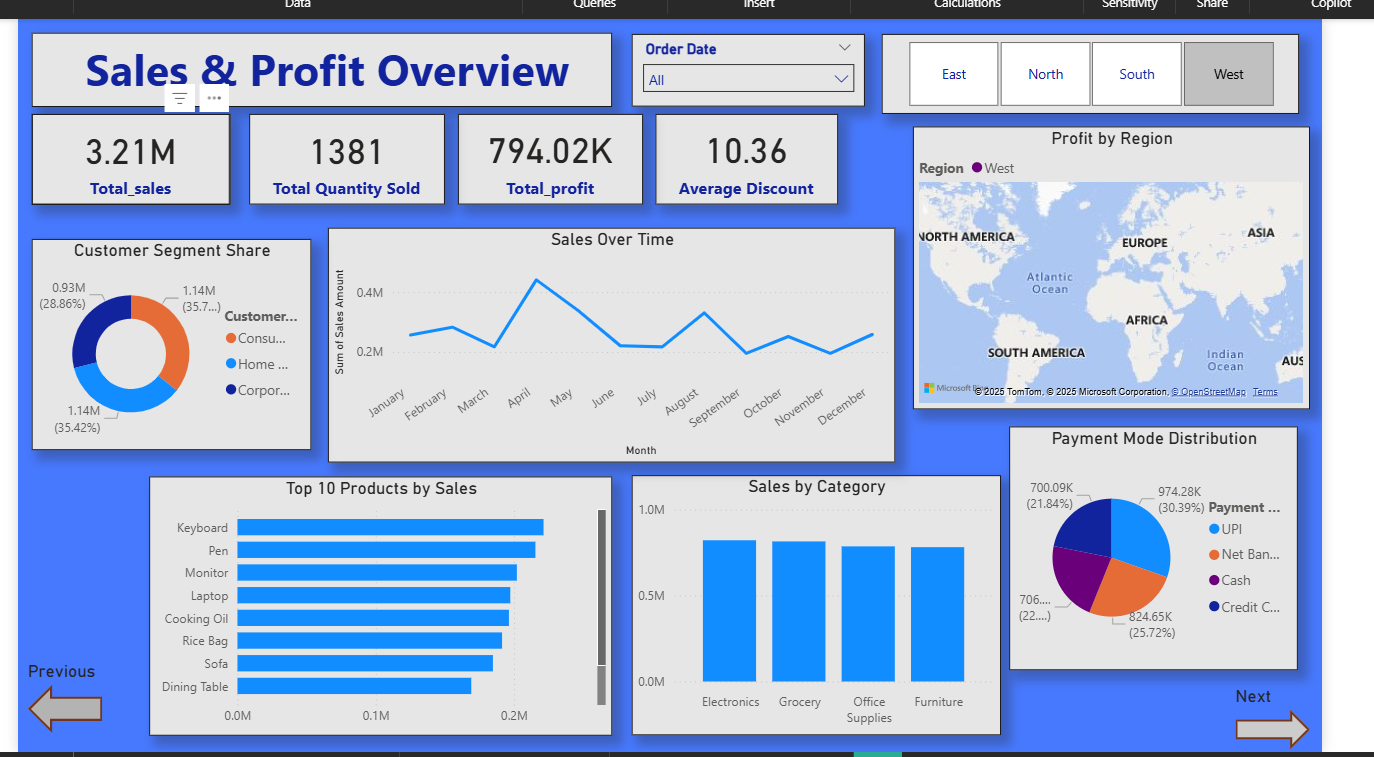

What the dashboard file says about the page in this screenshot:
{"tool":"powerbi","page":{"name":"Sales & profit Overview","canvas":[1280,720],"ordinal":1},"visuals":[{"type":"textbox","box":[13.7,13.7,569.5,72.7],"z":0},{"type":"slicer","fields":{"Values":["Superstore_Management_System.Order Date"]},"box":[602.8,14.3,229.1,71.6],"z":1000},{"type":"slicer","title":"profit by re","fields":{"Values":["Superstore_Management_System.Region"]},"box":[847.6,14.3,409.5,78.7],"z":2000},{"type":"card","fields":{"Values":["Superstore_Management_System.Total_sales"]},"box":[13.7,93.3,194.9,89.2],"z":3000},{"type":"card","fields":{"Values":["Superstore_Management_System.Average Discount"]},"box":[625.7,93.1,179,88.8],"z":4000},{"type":"card","fields":{"Values":["Superstore_Management_System.Total_profit"]},"box":[432.4,93.1,181.8,88.8],"z":5000},{"type":"card","fields":{"Values":["Superstore_Management_System.Total Quantity Sold"]},"box":[226.4,93.3,192.1,89.2],"z":6000},{"type":"clusteredColumnChart","title":" Sales by Category","fields":{"Category":["Superstore_Management_System.Category"],"Y":["Sum(Superstore_Management_System.Sales Amount)"]},"box":[602.8,448.1,362.2,254.9],"z":7000},{"type":"filledMap","title":"Profit by Region","fields":{"Series":["Superstore_Management_System.Region"]},"box":[879.1,106,389.4,277.8],"z":8000},{"type":"lineChart","title":"Sales Over Time","fields":{"Y":["Sum(Superstore_Management_System.Sales Amount)"],"Category":["Superstore_Management_System.Ship Date.Variation.Date Hierarchy.Month"]},"box":[304.6,204.5,557.1,230.5],"z":9000},{"type":"clusteredBarChart","title":"Top 10 Products by Sales","fields":{"Category":["Superstore_Management_System.Product Name"],"Y":["Sum(Superstore_Management_System.Sales Amount)"]},"box":[129.4,448.8,454.3,254.7],"z":10000},{"type":"donutChart","title":"Customer Segment Share","fields":{"Category":["Superstore_Management_System.Customer Segment"],"Y":["Sum(Superstore_Management_System.Sales Amount)"]},"box":[13.7,215.4,274.4,207.2],"z":11000},{"type":"pieChart","title":" Payment Mode Distribution","fields":{"Category":["Superstore_Management_System.Payment Mode"],"Y":["Sum(Superstore_Management_System.Sales Amount)"]},"box":[973.6,399.5,283.5,239.1],"z":12000},{"type":"shape","title":"Next","box":[1195.5,654.3,73,63],"z":13000},{"type":"shape","title":"Previous","box":[9.6,629.1,73,71.6],"z":14000}]}

Visuals, with their boxes in screenshot pixels (x1, y1, x2, y2):
textbox: 14:29:606:104
slicer - Superstore_Management_System.Order Date: 626:29:864:104
"profit by re" slicer: 881:29:1306:111
card - Superstore_Management_System.Total_sales: 14:111:217:204
card - Superstore_Management_System.Average Discount: 650:111:836:203
card - Superstore_Management_System.Total_profit: 449:111:638:203
card - Superstore_Management_System.Total Quantity Sold: 235:111:435:204
" Sales by Category" clusteredColumnChart: 626:480:1003:745
"Profit by Region" filledMap: 913:124:1318:413
"Sales Over Time" lineChart: 316:227:895:466
"Top 10 Products by Sales" clusteredBarChart: 134:481:606:745
"Customer Segment Share" donutChart: 14:238:299:453
" Payment Mode Distribution" pieChart: 1012:429:1306:678
"Next" shape: 1242:694:1318:756
"Previous" shape: 10:668:86:742
